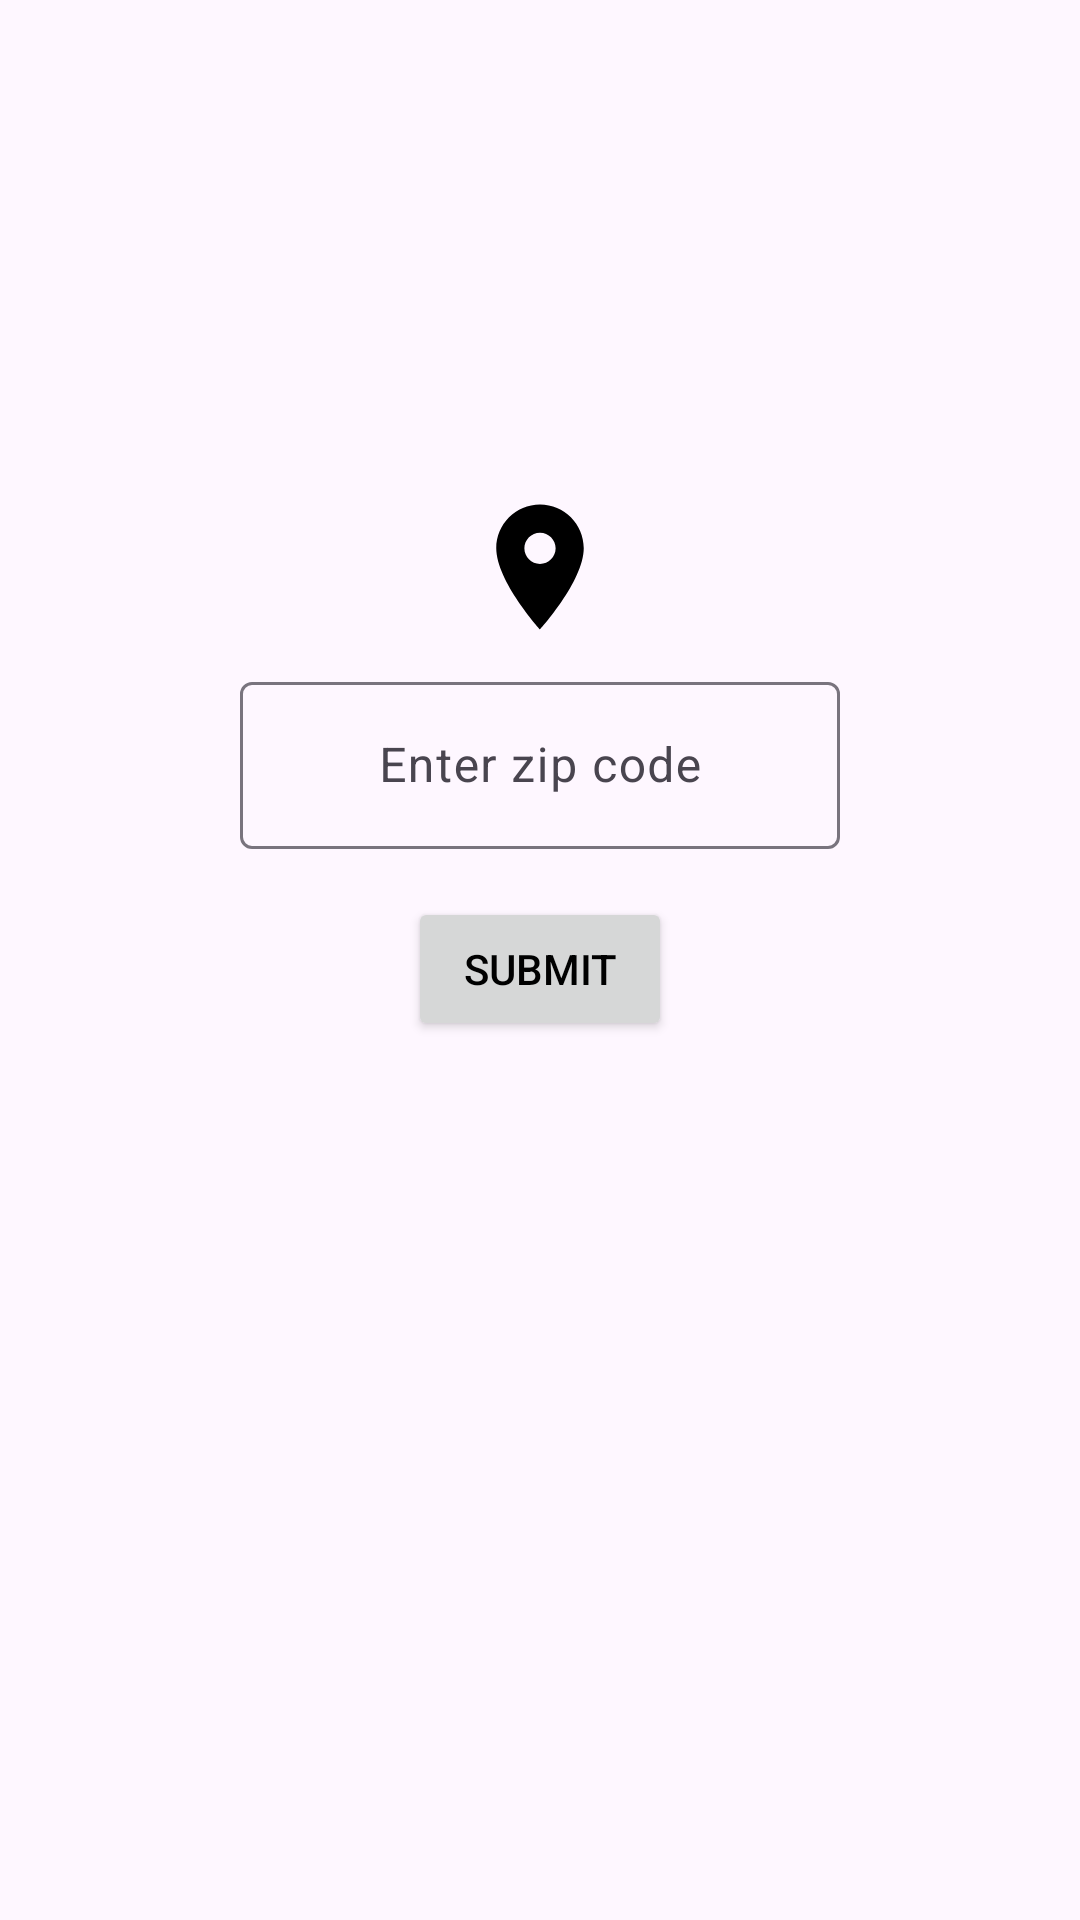

Point at icon controls on the screen. Image size 1080w x 1920h, points as point (x, y).
location: point (540, 567)
